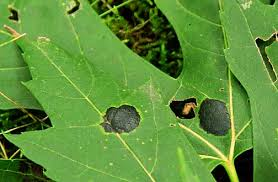Diseased_Leaves: (166, 89, 248, 143), (90, 139, 160, 172), (104, 106, 138, 133), (256, 35, 268, 55), (11, 9, 17, 20), (69, 9, 76, 11)
